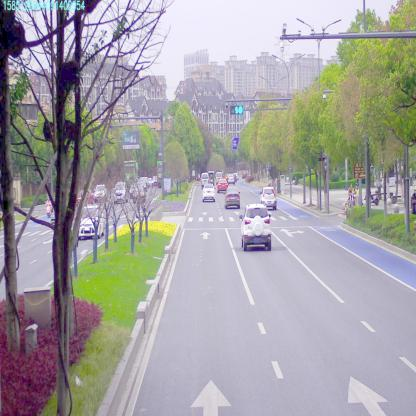traffic-light: (229, 106, 242, 113)
